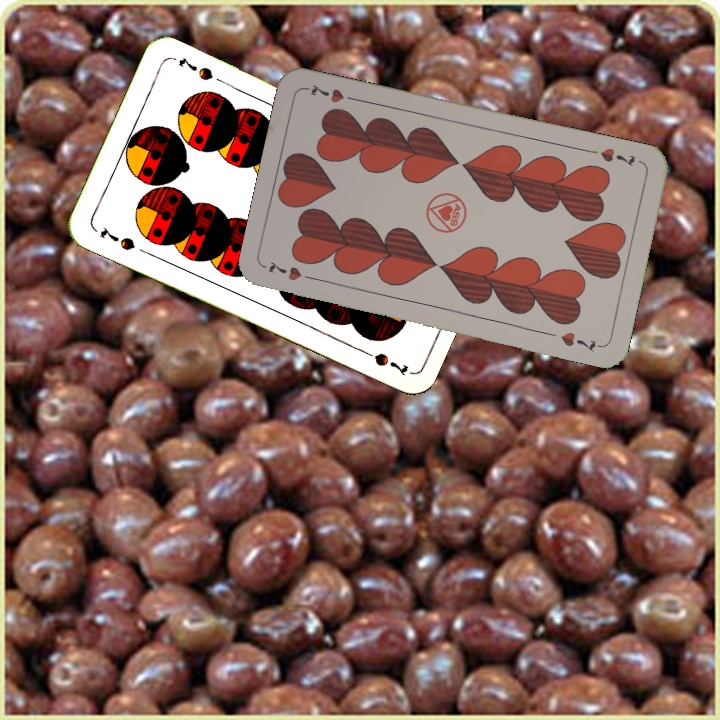H7: (262, 258, 320, 284), (585, 144, 638, 169)
S7: (96, 222, 138, 253)
